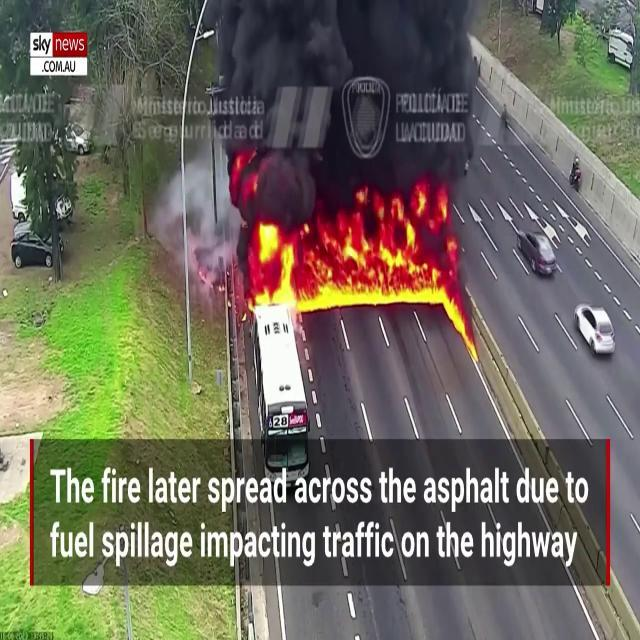Fire: (250, 192, 464, 310)
Smoke: (170, 0, 483, 245)
